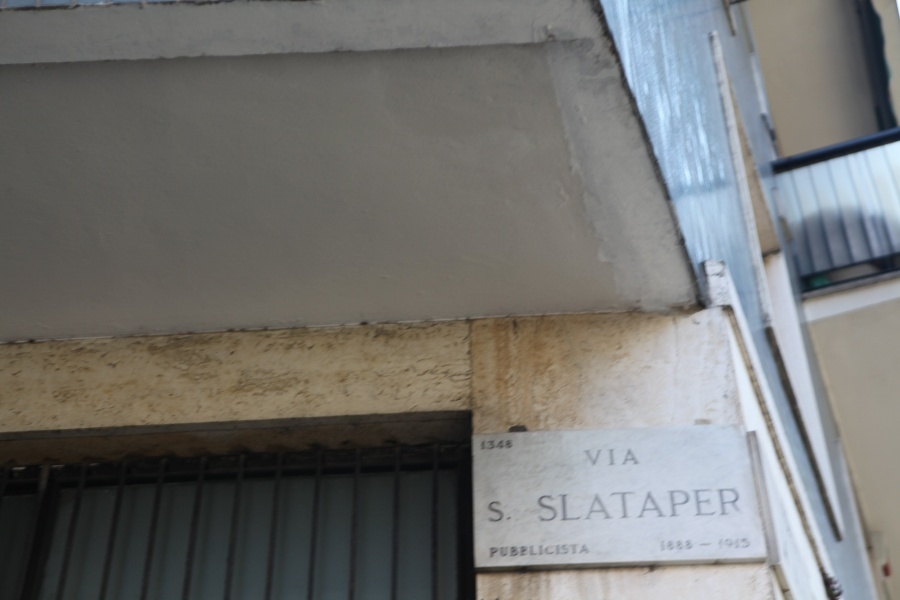text: (545, 486, 560, 523), (561, 486, 576, 523), (577, 486, 592, 523), (593, 486, 608, 523), (609, 486, 624, 523), (625, 486, 640, 523), (641, 486, 656, 523), (657, 486, 672, 523), (673, 486, 688, 523), (689, 486, 704, 523), (705, 486, 720, 523), (721, 486, 736, 523), (497, 500, 513, 524), (737, 486, 747, 523), (593, 447, 608, 468), (609, 447, 624, 468), (625, 447, 640, 468), (536, 486, 544, 523), (497, 543, 512, 558), (513, 543, 528, 558), (529, 543, 544, 558), (545, 543, 560, 558), (561, 543, 576, 558), (577, 543, 592, 558), (673, 537, 688, 552), (689, 537, 704, 552), (705, 537, 720, 552), (721, 537, 736, 552), (582, 447, 592, 468), (737, 537, 751, 552), (497, 439, 513, 451), (488, 500, 496, 524), (481, 439, 496, 451), (660, 537, 672, 552), (489, 543, 496, 558), (641, 447, 643, 468)
